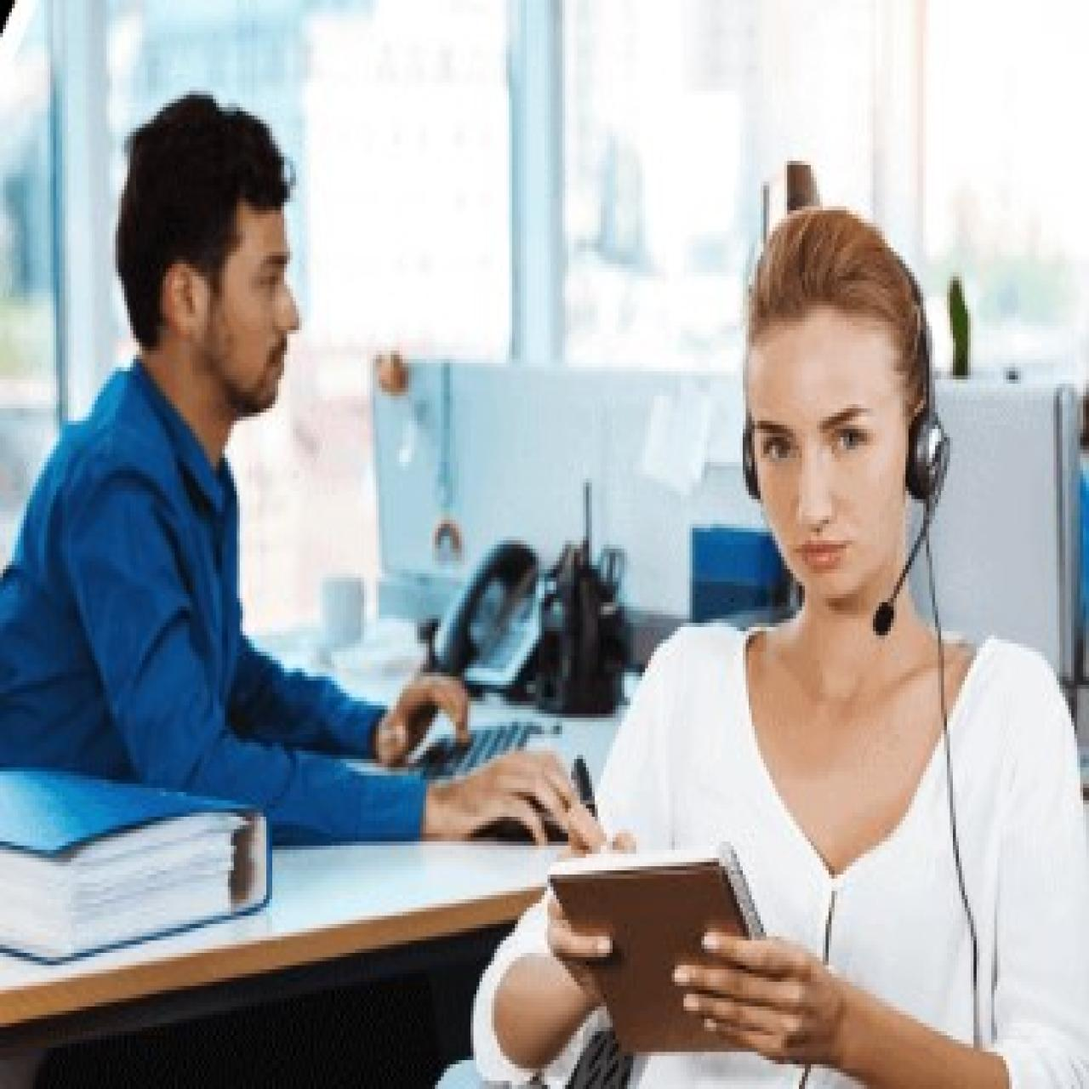NO_Safety_Vest: (645, 623, 1018, 1089), (14, 379, 249, 790)
Person: (479, 153, 1089, 1089), (0, 58, 522, 846)
